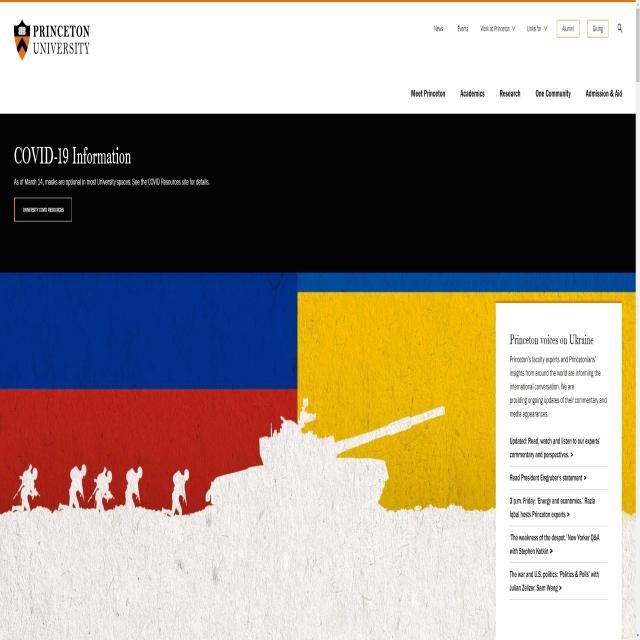menu-bar: (430, 16, 627, 42)
tab-bar: (412, 71, 625, 112)
